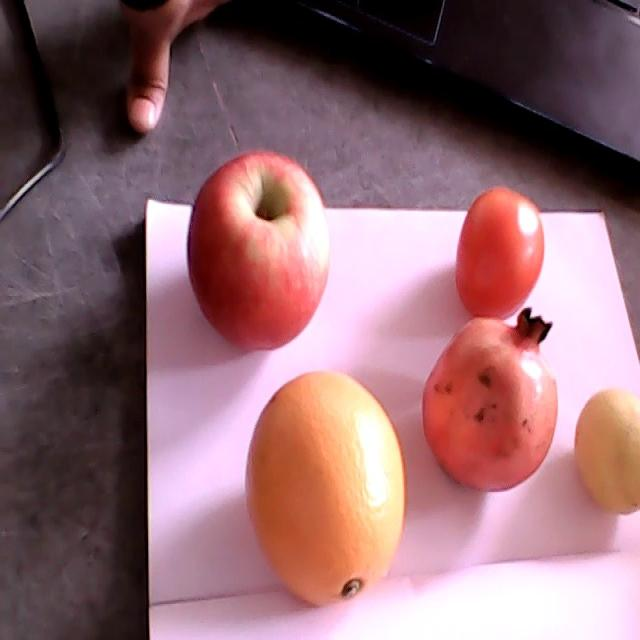apple: (188, 151, 330, 351)
lemon: (574, 389, 639, 514)
orange: (245, 371, 405, 605)
pomegranate: (422, 306, 558, 492)
tomato: (457, 186, 545, 320)
